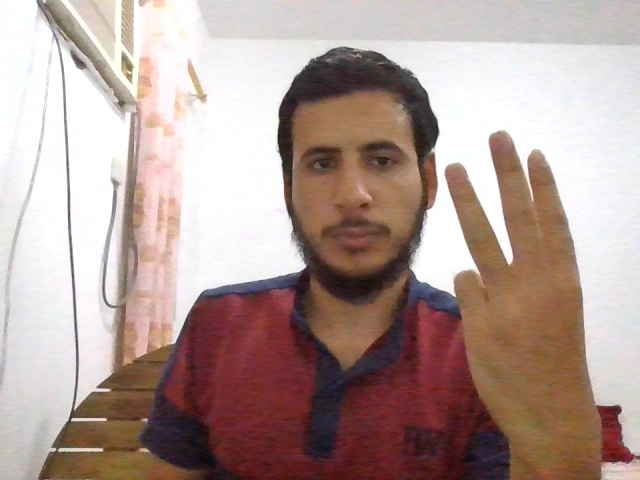Three: (445, 130, 601, 428)
